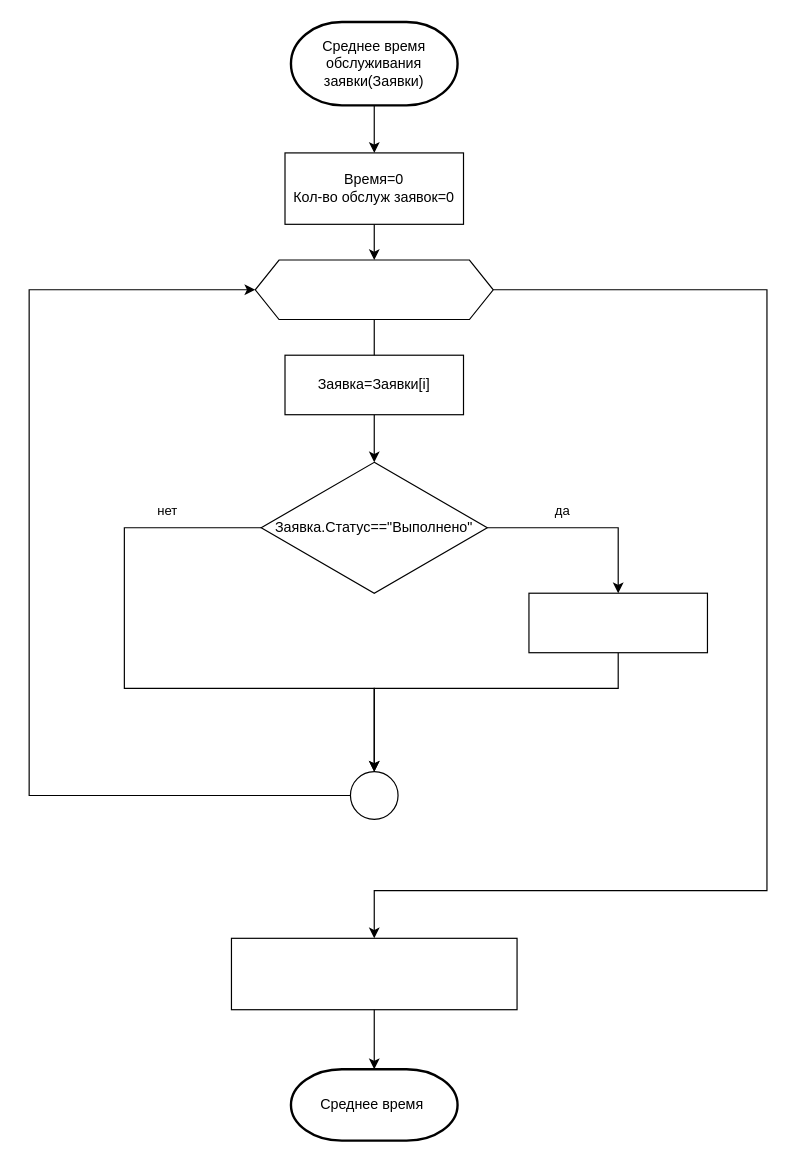
This 797x1161 diagram has some shape labels left out. The box of each missing label's shape, as (x1, y1, x2, y2) in pixels:
i=0; Заявки.Кол-во-1; 1: (254, 259, 493, 320)
Время+=Заявка.Время Кол-во обслуж++: (528, 592, 707, 653)
Среднее время=Время/Кол-во обслуж: (230, 937, 517, 1010)
